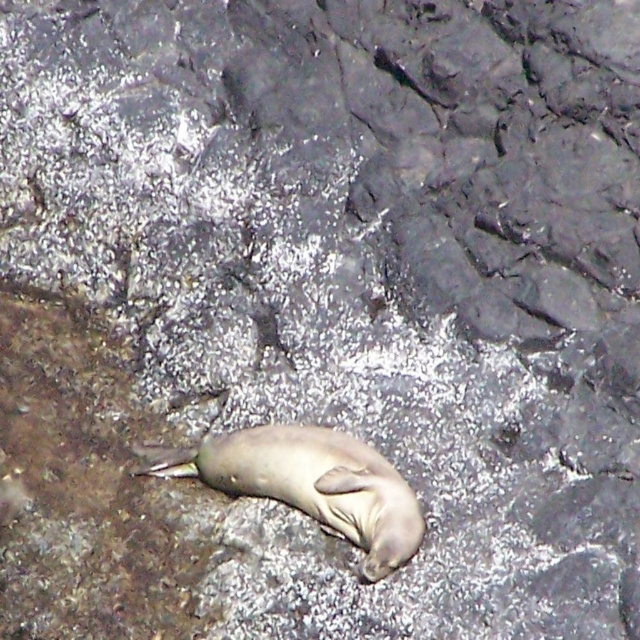Sea lion: (124, 422, 426, 588)
